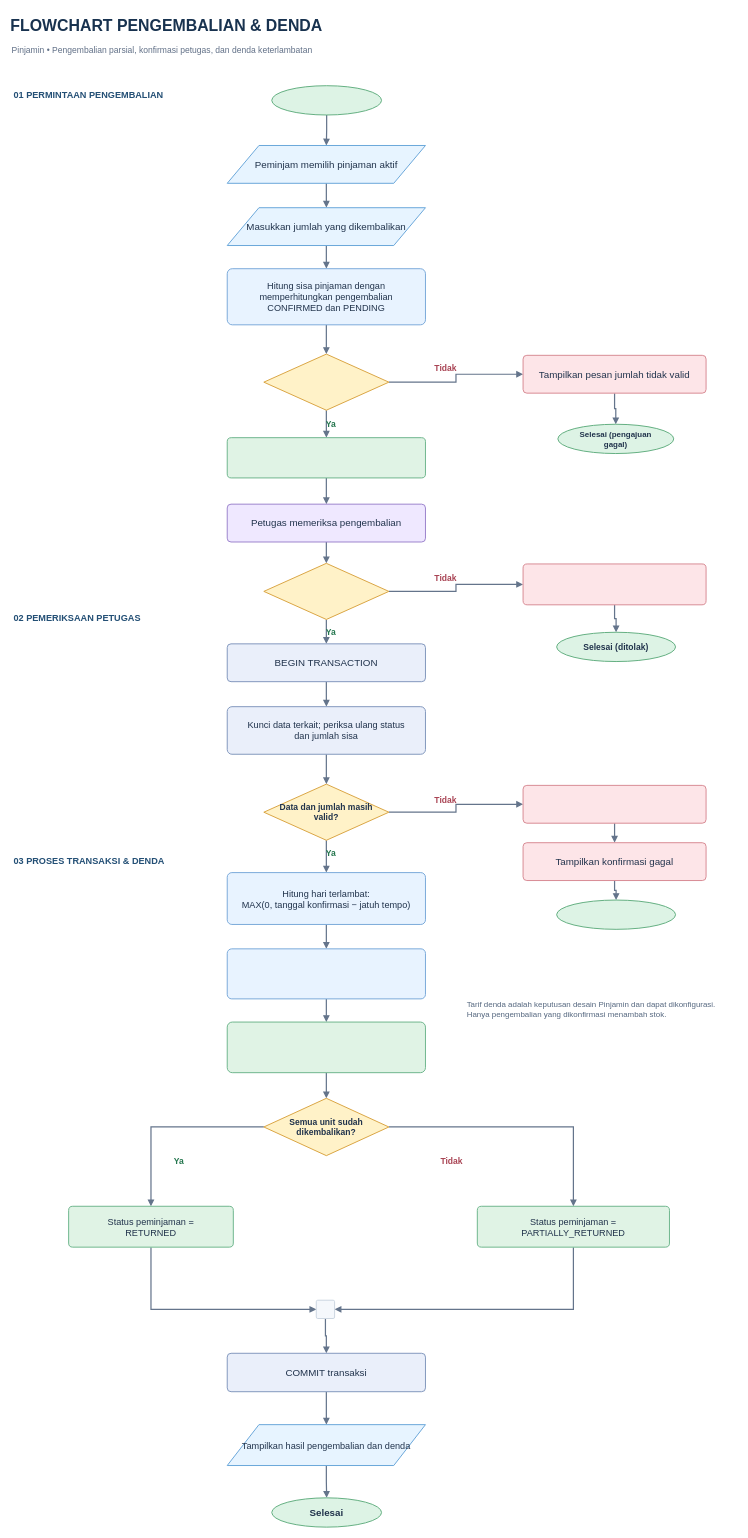
Image size: 748x1538. Some labels were removed from this diagram. Each missing label, with the centre of its shape:
"Catat pengembalian dengan status PENDING" goes at point (326, 457).
"Hitung denda = hari terlambat × unit kembali × Rp5.000" goes at point (326, 973).
"Jumlah pengembalian valid?" goes at point (326, 381).
"Konfirmasi pengembalian; simpan denda; tambahkan stok tersedia" goes at point (326, 1047).
"Mulai" goes at point (326, 100).
"Petugas mengonfirmasi?" goes at point (326, 591).
"ROLLBACK transaksi" goes at point (614, 804).
"Selesai (gagal)" goes at point (616, 914).
"Ubah status pengembalian menjadi REJECTED" goes at point (614, 584).
